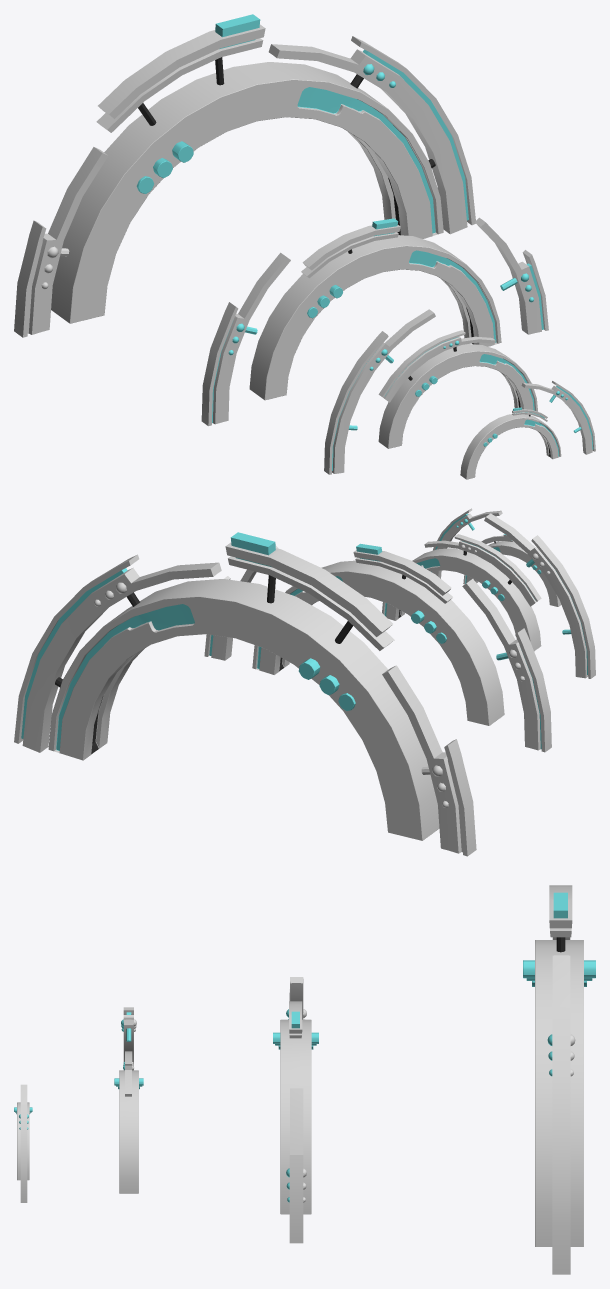
The model's file is m_Ruins_Arks.fbx.
3 views of the same model, one above another, from view 1: azimuth 30°, elevation 25°; view 2: azimuth 150°, elevation 25°; view 3: azimuth 270°, elevation 25° (orthographic).
Parts seen in each view (by area): view 1: Arks; view 2: Arks; view 3: Arks.
Boxes of the visible parts, <box> form: Arks: <box>14,14,595,479</box>; Arks: <box>14,508,595,856</box>; Arks: <box>14,885,595,1274</box>.
Bounding box in the file's own units: 17149 × 9629 × 18928.
